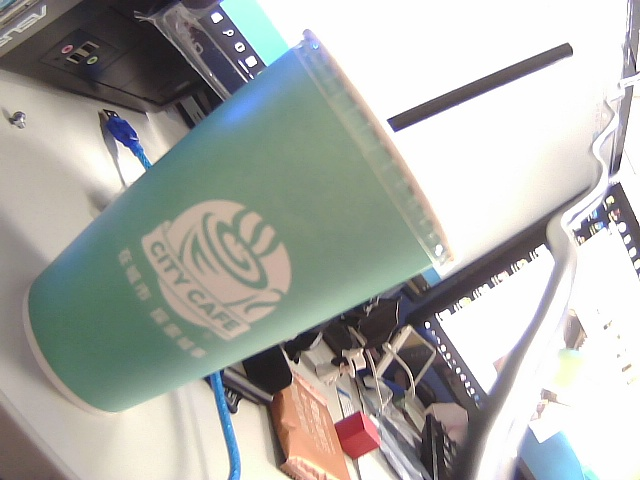beverage: (20, 22, 567, 413)
